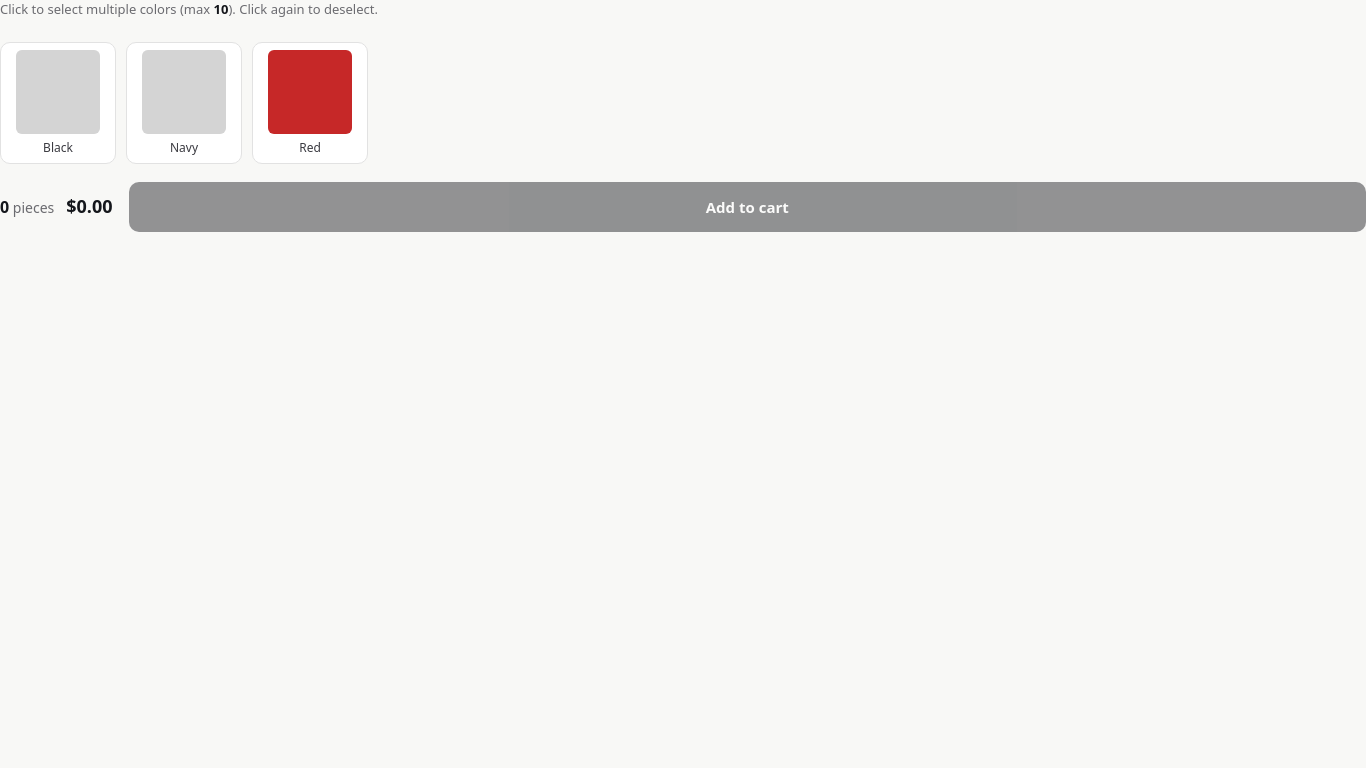
Test: adding to the cart › sends a buyer whose session ended to sign in, and back here after
Click the button "Black": (58, 102) [0, 42, 116, 164]
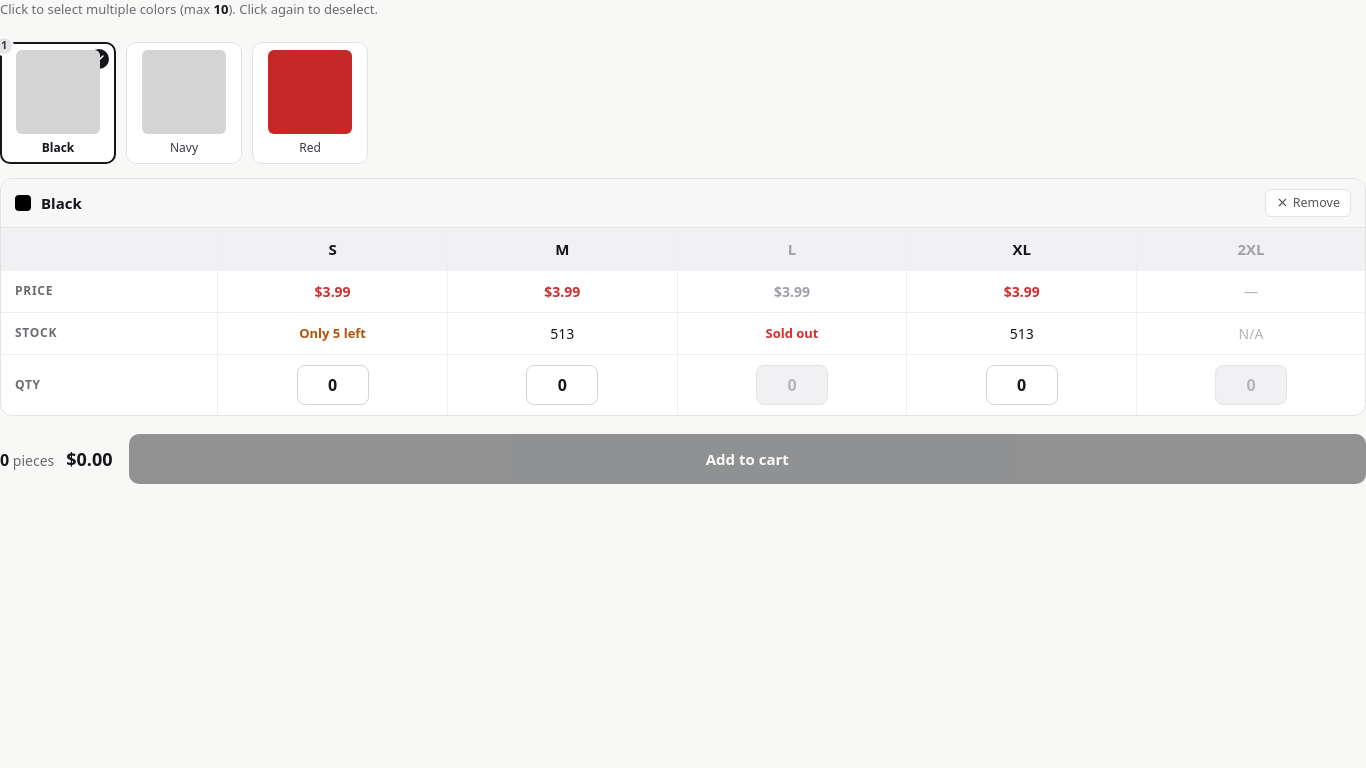
Click the button "Navy": (184, 102) [126, 42, 242, 164]
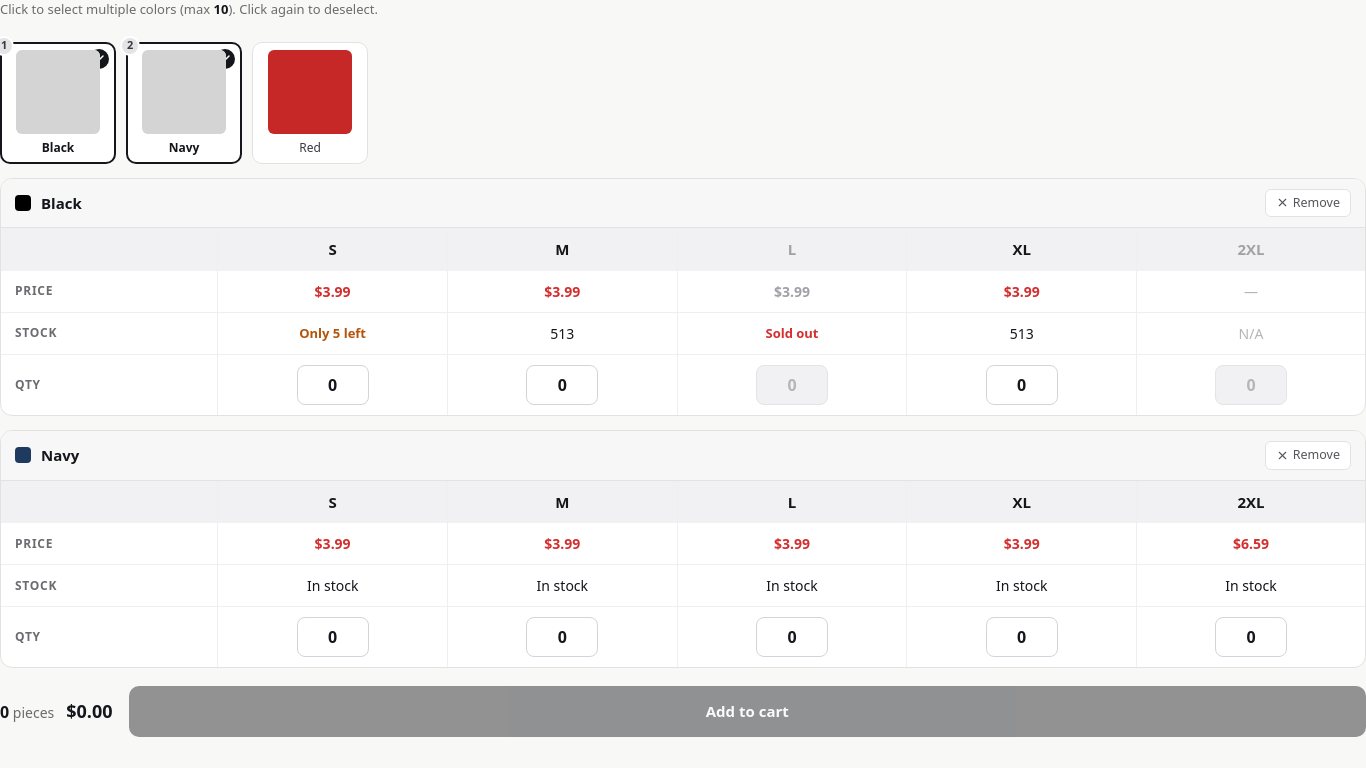
Replace the text in the field named "Black, S: how many" with "3": (333, 385) [297, 365, 369, 405]
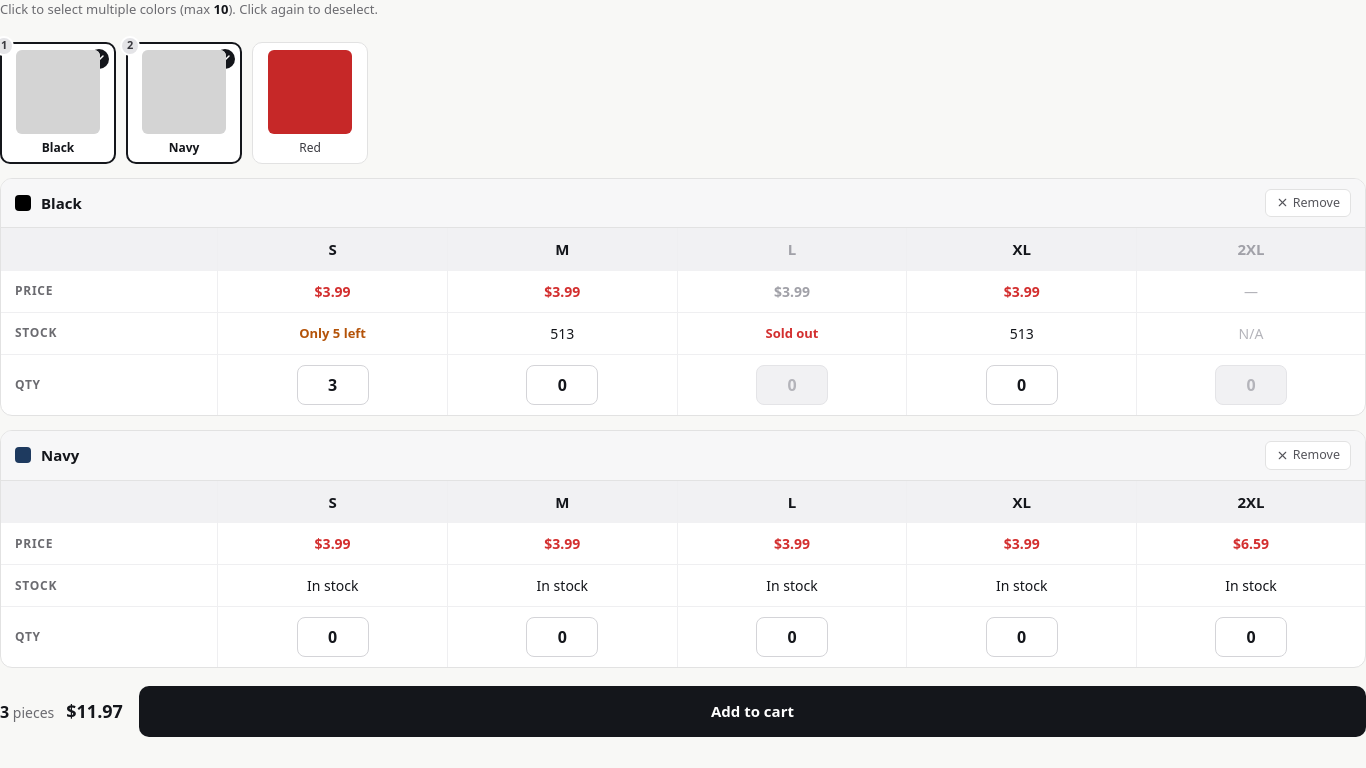
Replace the text in the field named "Black, M: how many" with "12": (562, 385) [526, 365, 598, 405]
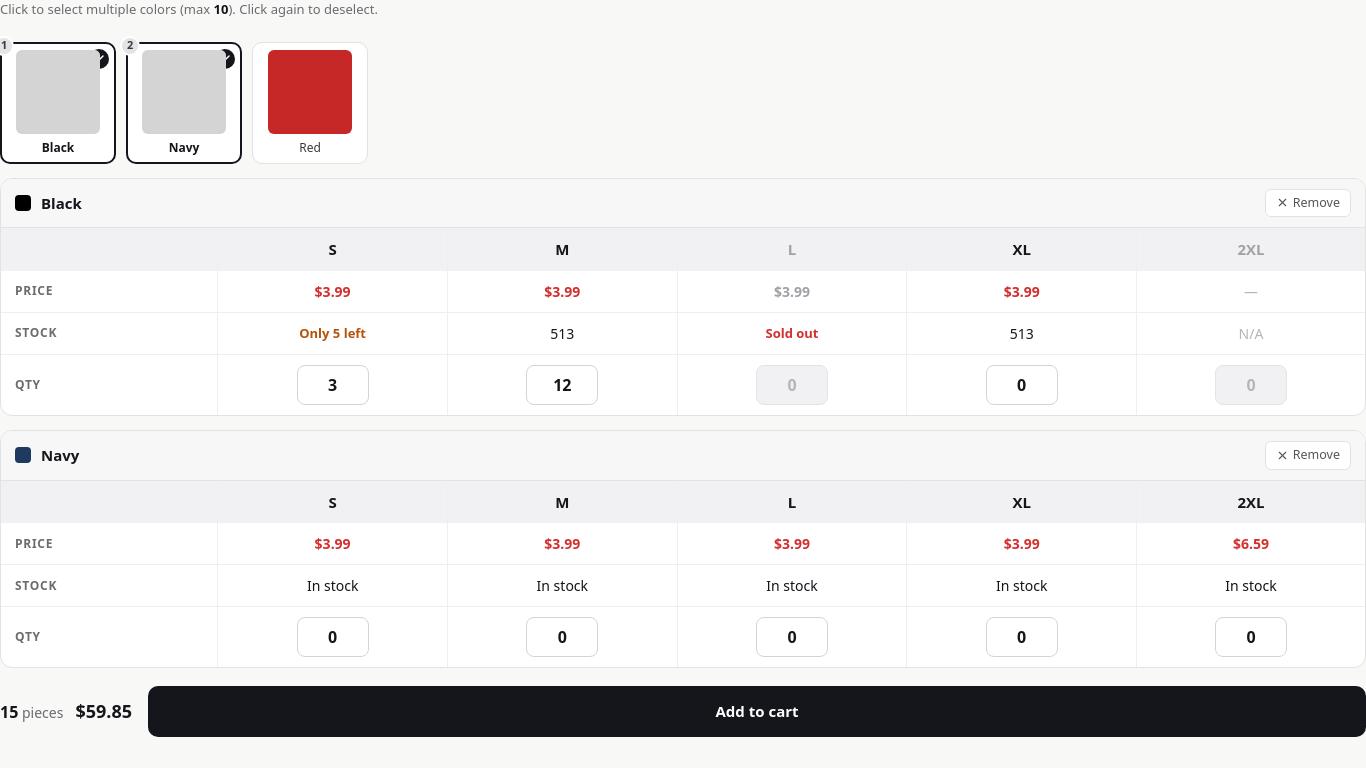
Replace the text in the field named "Navy, 2XL: how many" with "6": (1251, 637) [1215, 617, 1287, 657]
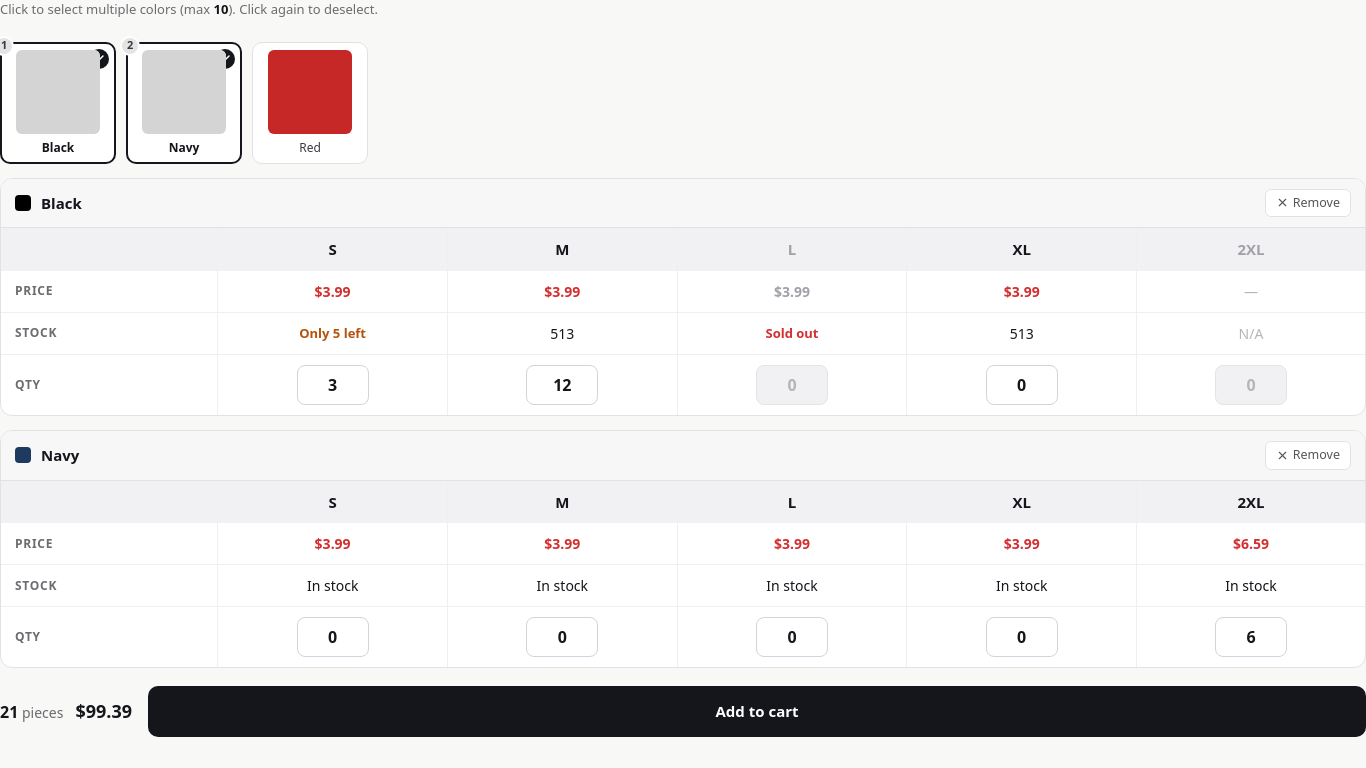
Click the button "Add to cart": (757, 711) [148, 686, 1365, 736]
Wait 1500 ms
(page scrolled)
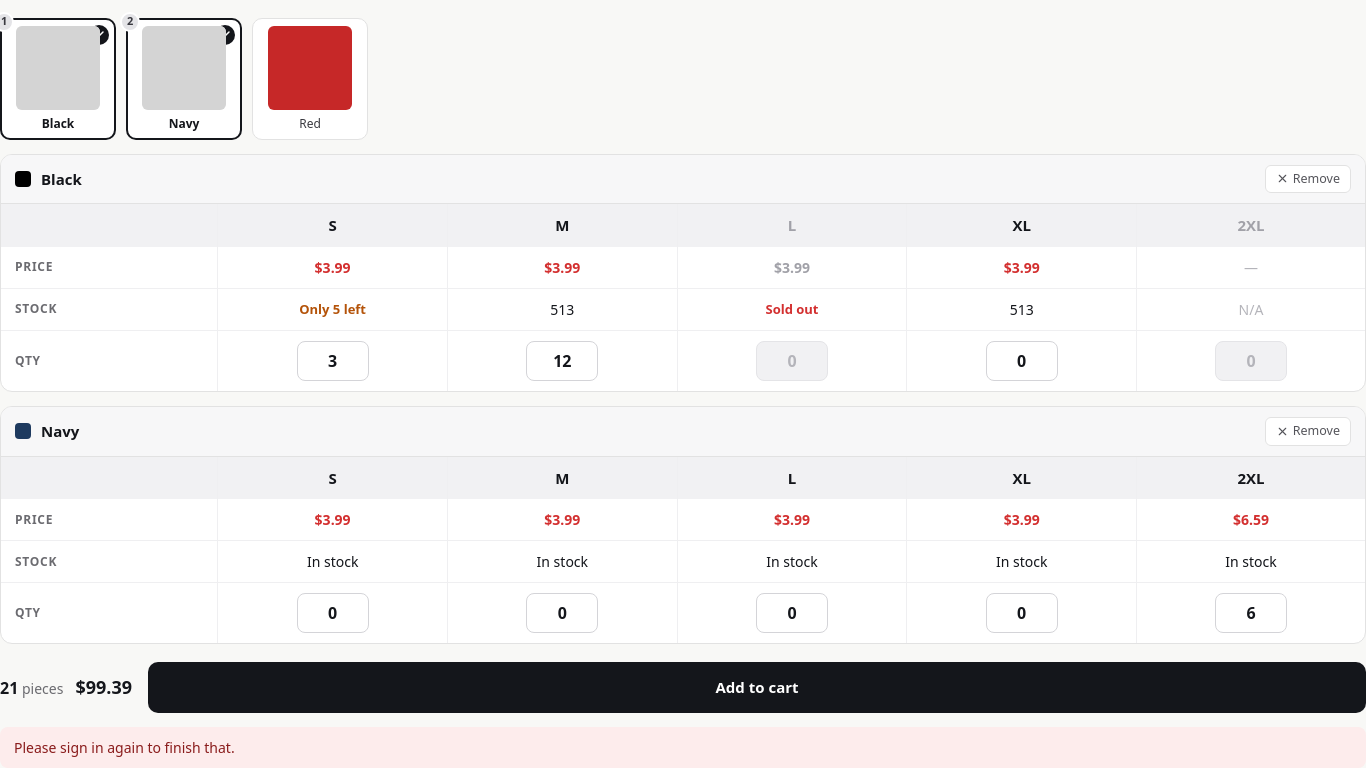
Expected: the message reads "Please sign in again to finish that.", [14, 738, 235, 756]
